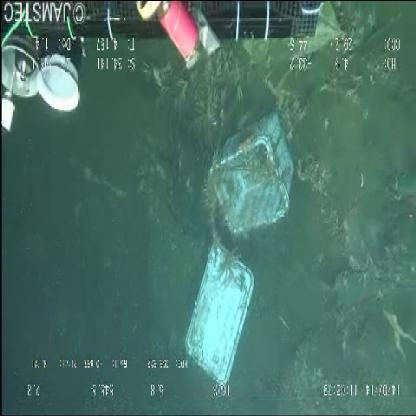Rov: (1, 0, 331, 139)
Rác: (186, 94, 302, 393)
